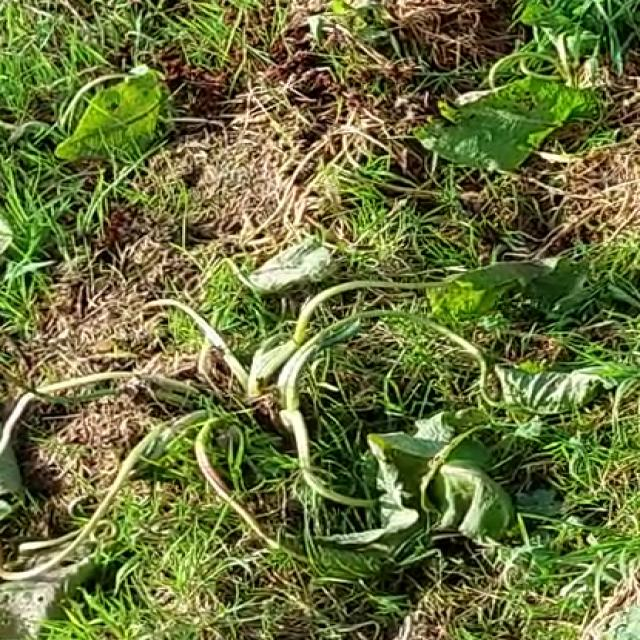organic waste: (0, 254, 640, 609), (410, 28, 640, 249), (27, 47, 215, 216)
